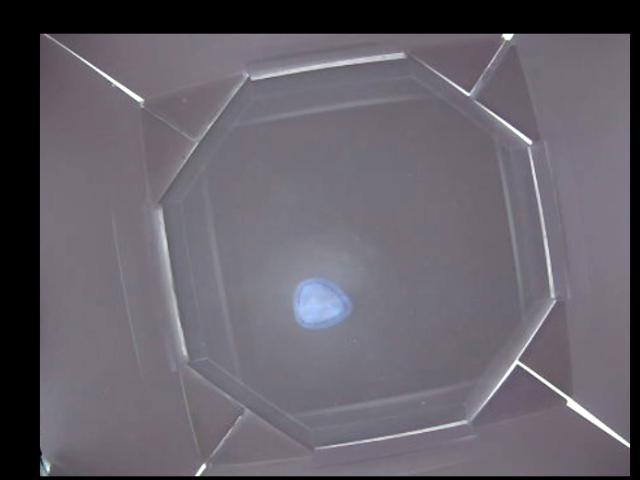Pebble: (293, 275, 350, 328)
